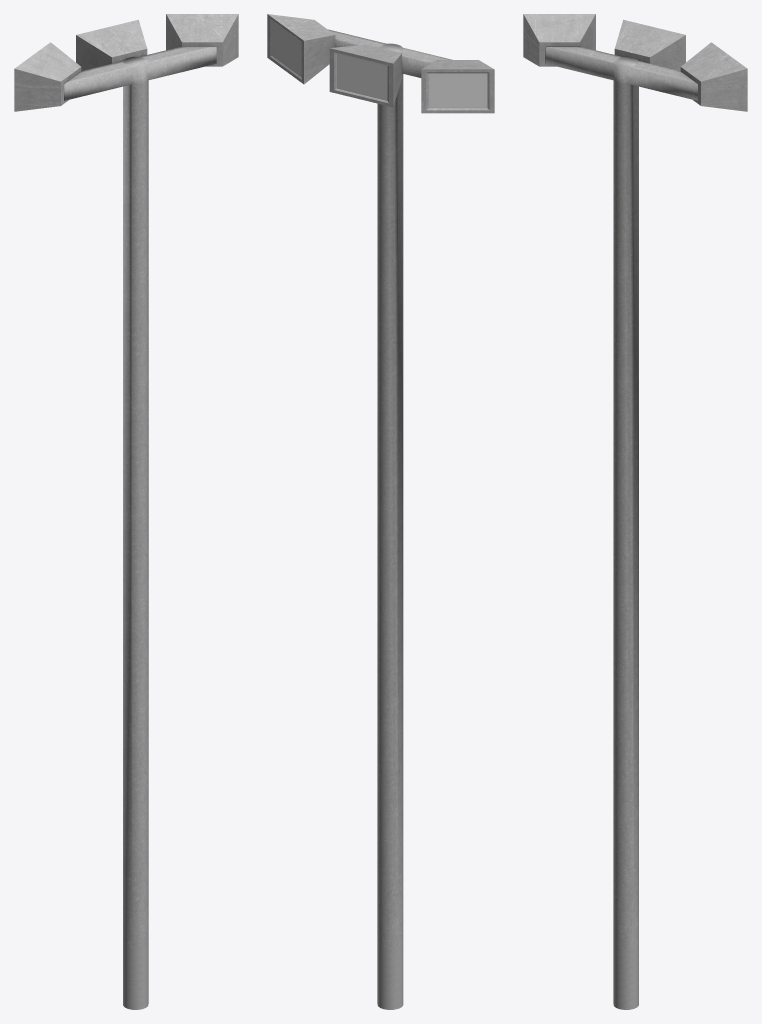
File: AirportLightNoPole.gltf
3 views of the same model, side by side, from view 1: azimuth 30°, elevation 25°; view 2: azimuth 150°, elevation 25°; view 3: azimuth 330°, elevation 25° (orthographic).
Parts seen in each view (by area): view 1: AirportLightNoPole; view 2: AirportLightNoPole; view 3: AirportLightNoPole.
Part boxes in pixels (<box>): AirportLightNoPole: <box>14,14,238,1009</box>; AirportLightNoPole: <box>267,14,494,1009</box>; AirportLightNoPole: <box>523,14,747,1009</box>.
Bounding box in the file's own units: 2.78 × 11.33 × 0.7485.
1 material, 1 textured.
